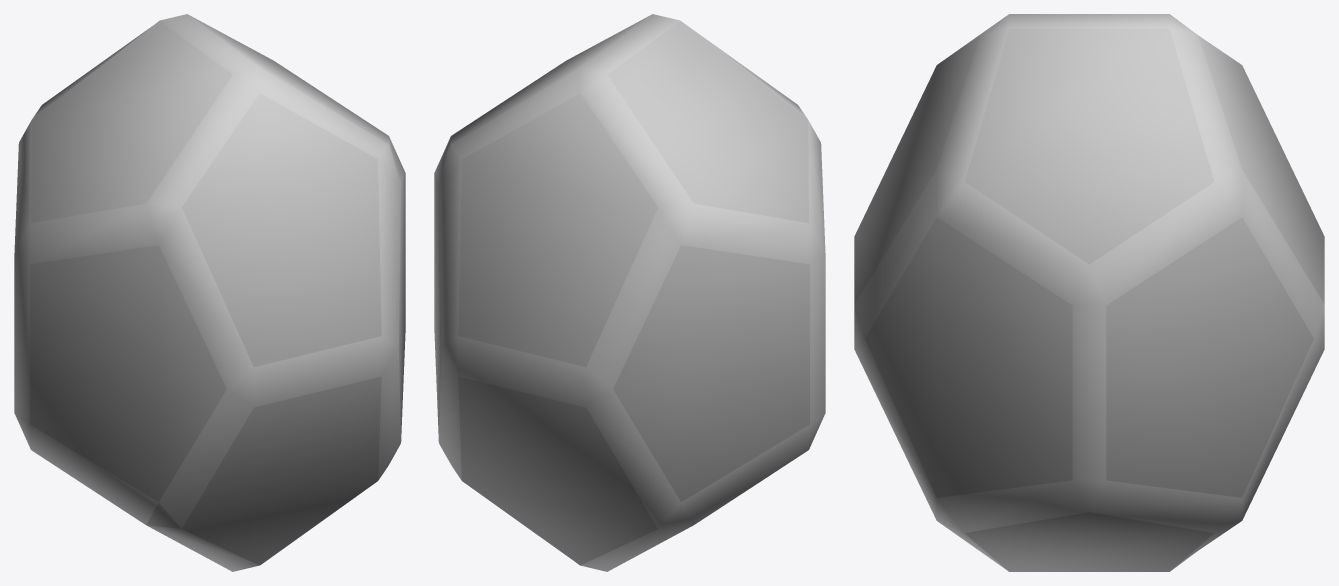
The model's file is stone_4.fbx.
3 renders of one model, left to right at view 1: azimuth 30°, elevation 25°; view 2: azimuth 150°, elevation 25°; view 3: azimuth 270°, elevation 25°, orthographic. The views are drawn at different scales.
Visible parts, largest first — view 1: stone_4; view 2: stone_4; view 3: stone_4.
Boxes of the visible parts, x1,y1,x2,y2 form: stone_4: [14, 14, 405, 571]; stone_4: [434, 14, 825, 571]; stone_4: [854, 14, 1324, 571].
Size of the model in its own units: 110 by 139 by 109.
1 material, 1 textured.
